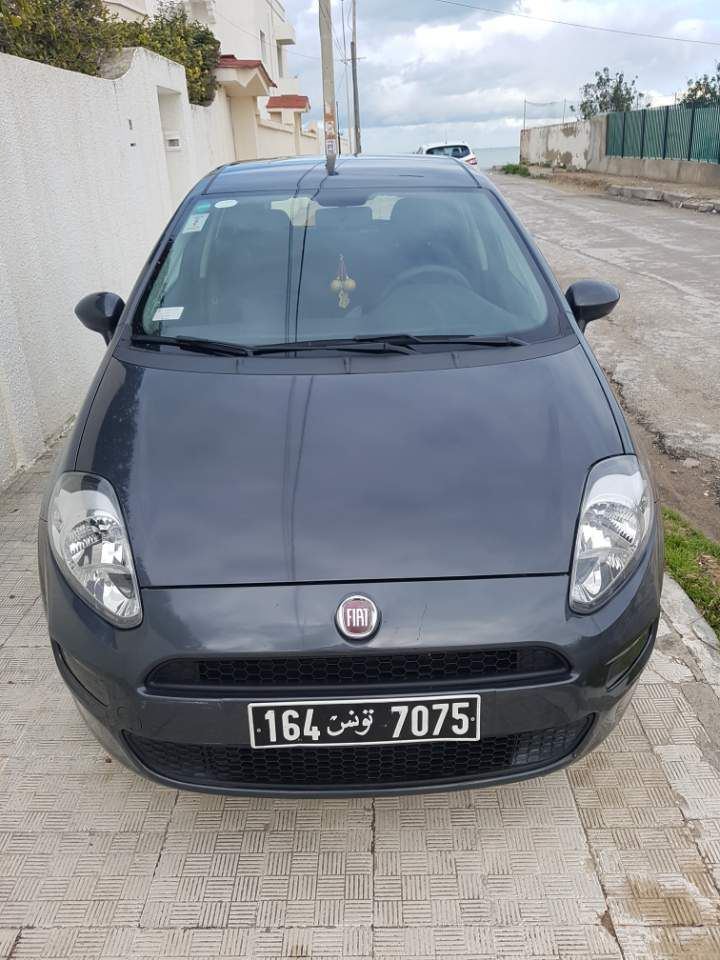LP: (247, 697, 484, 749)
